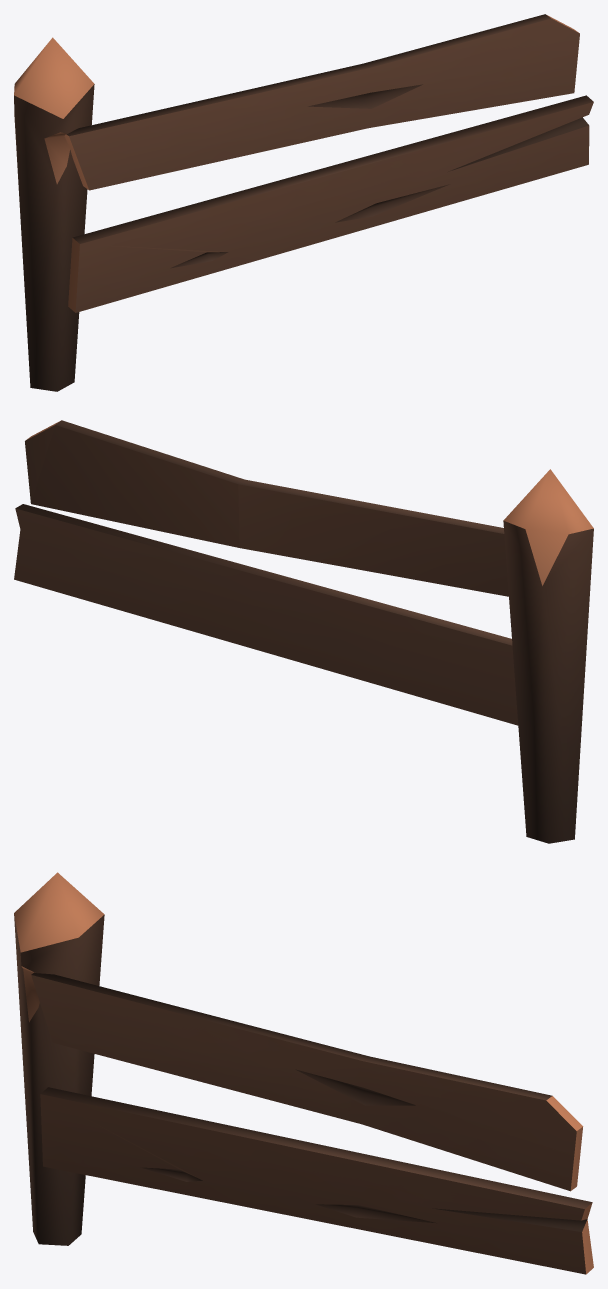
Rendered from Fence_1A_Part_1.fbx.
3 views of the same model, one above another, from view 1: azimuth 30°, elevation 25°; view 2: azimuth 150°, elevation 25°; view 3: azimuth 330°, elevation 25° (orthographic). The views are drawn at different scales.
Parts seen in each view (by area): view 1: Fence_1A_Part_1; view 2: Fence_1A_Part_1; view 3: Fence_1A_Part_1.
Part boxes in pixels (<box>): Fence_1A_Part_1: <box>14,14,593,391</box>; Fence_1A_Part_1: <box>14,420,593,843</box>; Fence_1A_Part_1: <box>14,872,593,1274</box>.
Size of the model in its own units: 215 by 126 by 30.39.
